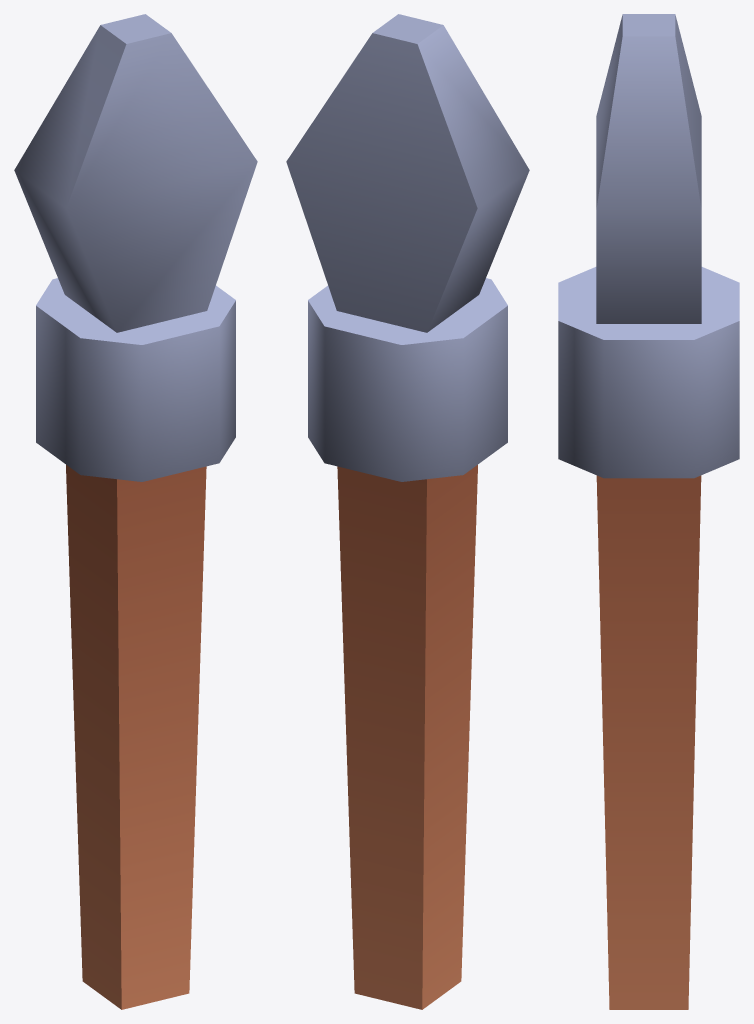
Rendered from weapon-spear.glb.
The picture shows the model from 3 angles, left to right: view 1: azimuth 30°, elevation 25°; view 2: azimuth 150°, elevation 25°; view 3: azimuth 270°, elevation 25°; orthographic projection.
Parts seen in each view (by area): view 1: weapon-spear; view 2: weapon-spear; view 3: weapon-spear.
Boxes of the visible parts, x1,y1,x2,y2 form: weapon-spear: (14, 14, 257, 1009); weapon-spear: (286, 14, 529, 1009); weapon-spear: (558, 14, 739, 1009).
Size of the model in its own units: 0.1463 by 0.7 by 0.119.
1 material, 1 textured.
